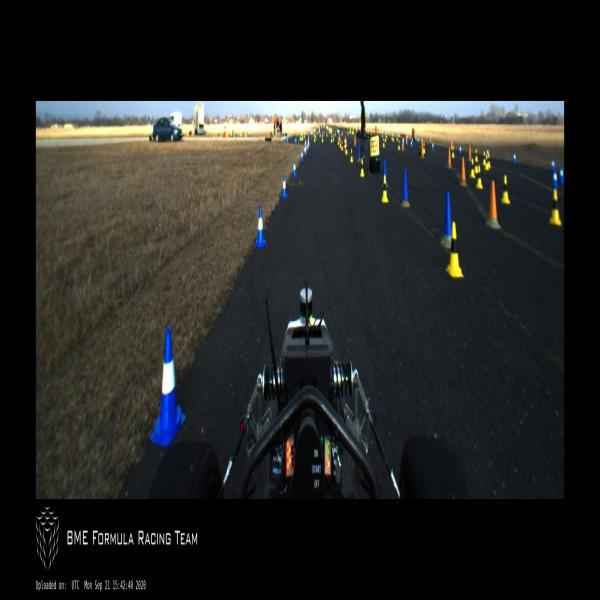blue_cone: (150, 328, 186, 447), (255, 206, 266, 248), (281, 174, 288, 200), (551, 168, 559, 190), (559, 163, 564, 184), (292, 160, 297, 178), (551, 155, 555, 171), (300, 149, 304, 163), (512, 151, 516, 164), (485, 146, 489, 159), (431, 140, 434, 152), (459, 143, 462, 155), (303, 146, 306, 157), (304, 144, 306, 156), (410, 139, 412, 150), (298, 136, 300, 144), (308, 141, 310, 148), (417, 137, 419, 144), (415, 136, 417, 143), (286, 137, 288, 144), (295, 138, 297, 144), (307, 143, 308, 151), (412, 138, 413, 144)
large_orange_cone: (304, 138, 307, 155), (344, 135, 346, 151), (305, 138, 307, 154)
unknown_cone: (485, 180, 502, 228), (439, 190, 452, 248), (400, 169, 410, 208), (459, 156, 468, 187), (381, 158, 389, 188), (446, 147, 452, 170), (420, 141, 425, 159), (357, 143, 361, 163), (468, 142, 471, 162), (402, 139, 404, 152), (354, 135, 356, 146), (420, 136, 422, 146), (450, 139, 452, 148), (429, 134, 431, 143), (406, 136, 408, 144), (315, 132, 316, 141), (333, 133, 334, 141)
yellow_cone: (445, 221, 464, 278), (549, 189, 562, 226), (501, 174, 510, 205), (381, 175, 389, 204), (476, 164, 483, 190), (484, 153, 490, 172), (470, 159, 475, 178), (360, 158, 364, 178), (475, 155, 478, 174), (451, 145, 455, 159), (488, 151, 491, 168), (350, 148, 353, 164), (345, 141, 348, 155), (482, 150, 485, 164), (382, 137, 385, 149), (423, 142, 426, 154), (475, 149, 478, 160), (341, 139, 343, 152), (398, 139, 400, 151), (339, 138, 341, 148), (340, 139, 342, 148), (314, 135, 316, 142), (330, 136, 332, 142), (322, 136, 324, 142), (341, 130, 343, 136), (299, 134, 301, 140), (326, 132, 328, 137), (347, 130, 349, 135), (391, 134, 393, 139), (338, 137, 339, 145), (301, 136, 303, 140), (385, 136, 386, 142), (397, 134, 398, 140), (386, 132, 387, 138), (393, 136, 394, 142)
